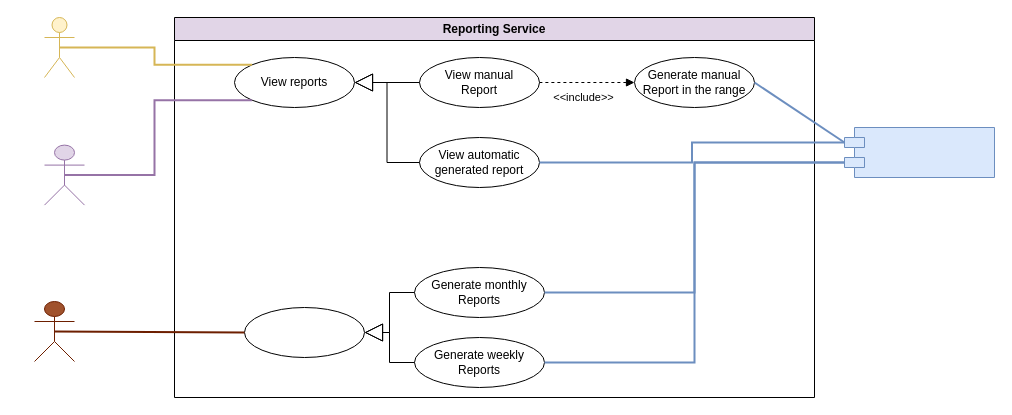
Image size: 1012x415. Some labels were removed from this diagram. Here are the shapes that lost their labels. From the top down, the centre of each, then its label:
At (x=59, y=47): "Student Printing Service Officer".
At (x=919, y=152): "SSPS_Database".
At (x=64, y=174): "School Administrator".
At (x=304, y=332): "Generate reports".
